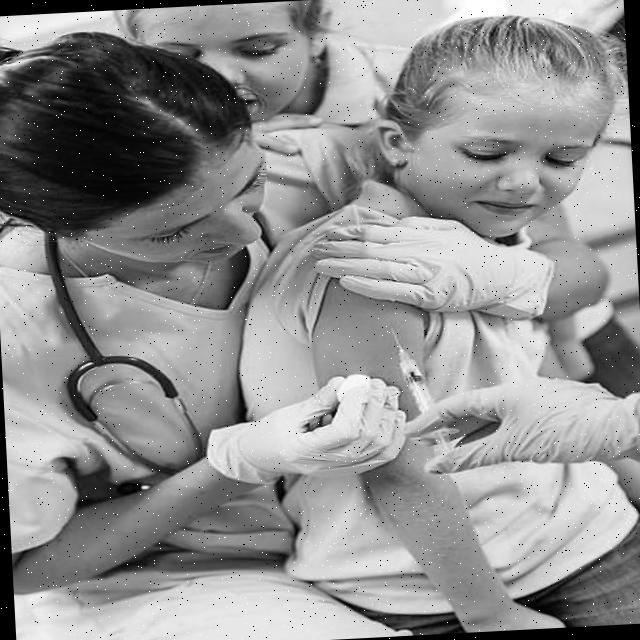Fear: (442, 80, 594, 240)
